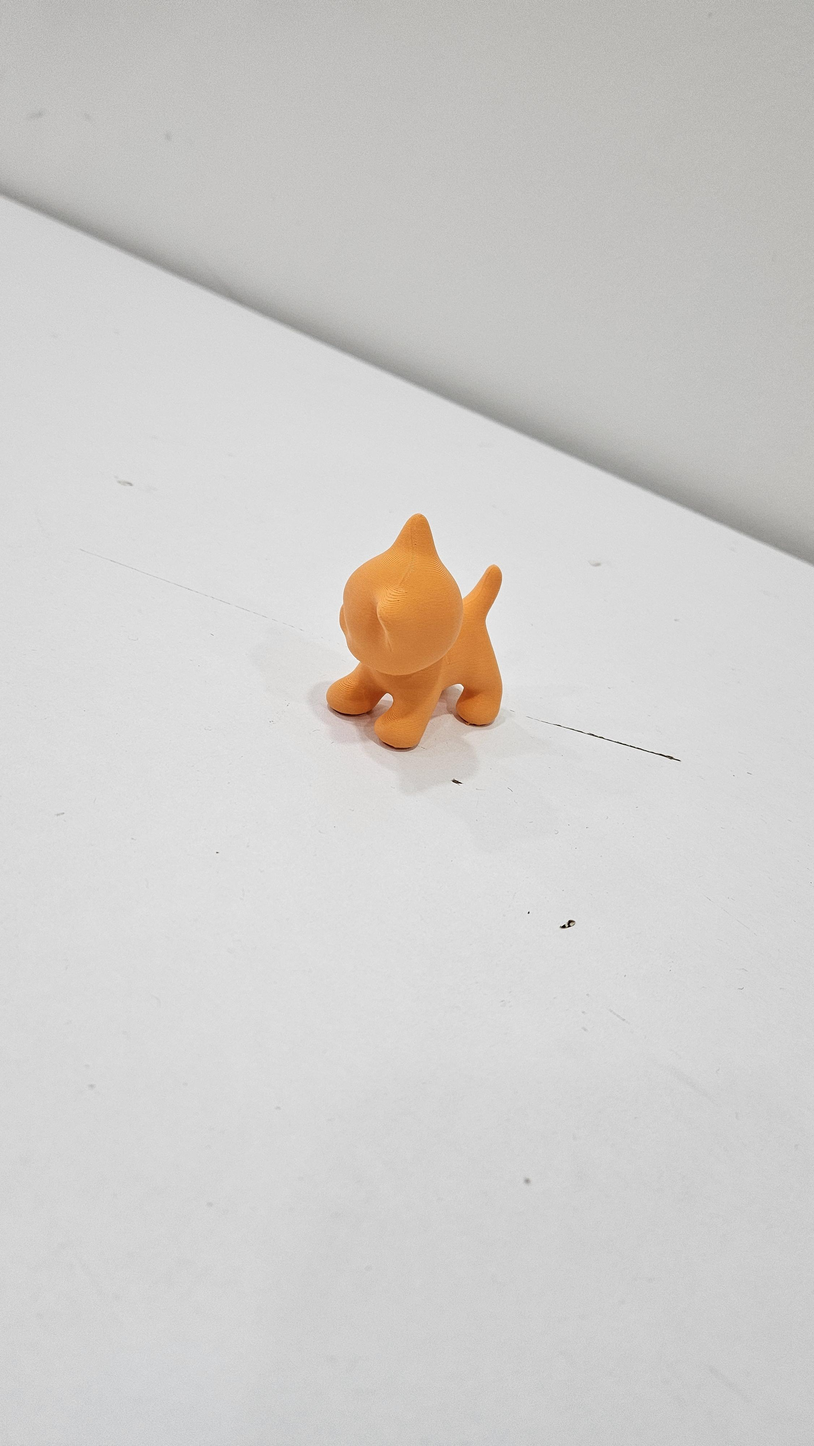cat: (324, 508, 508, 755)
